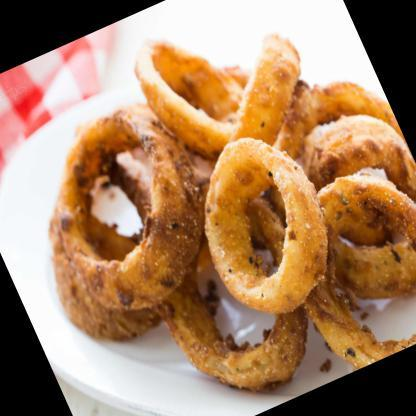onion: (164, 95, 368, 345)
